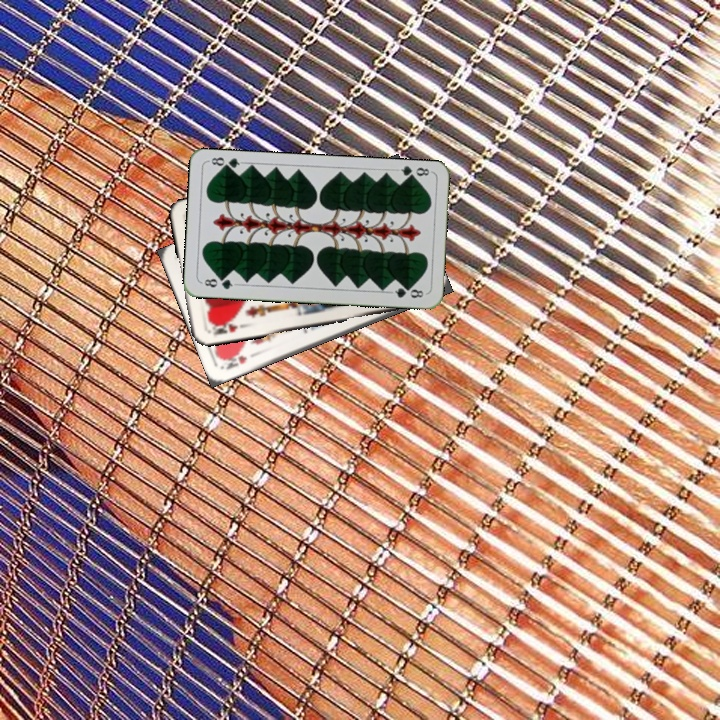G8: (393, 162, 434, 183), (198, 274, 239, 292)
HK: (218, 351, 250, 372), (207, 317, 240, 337)
